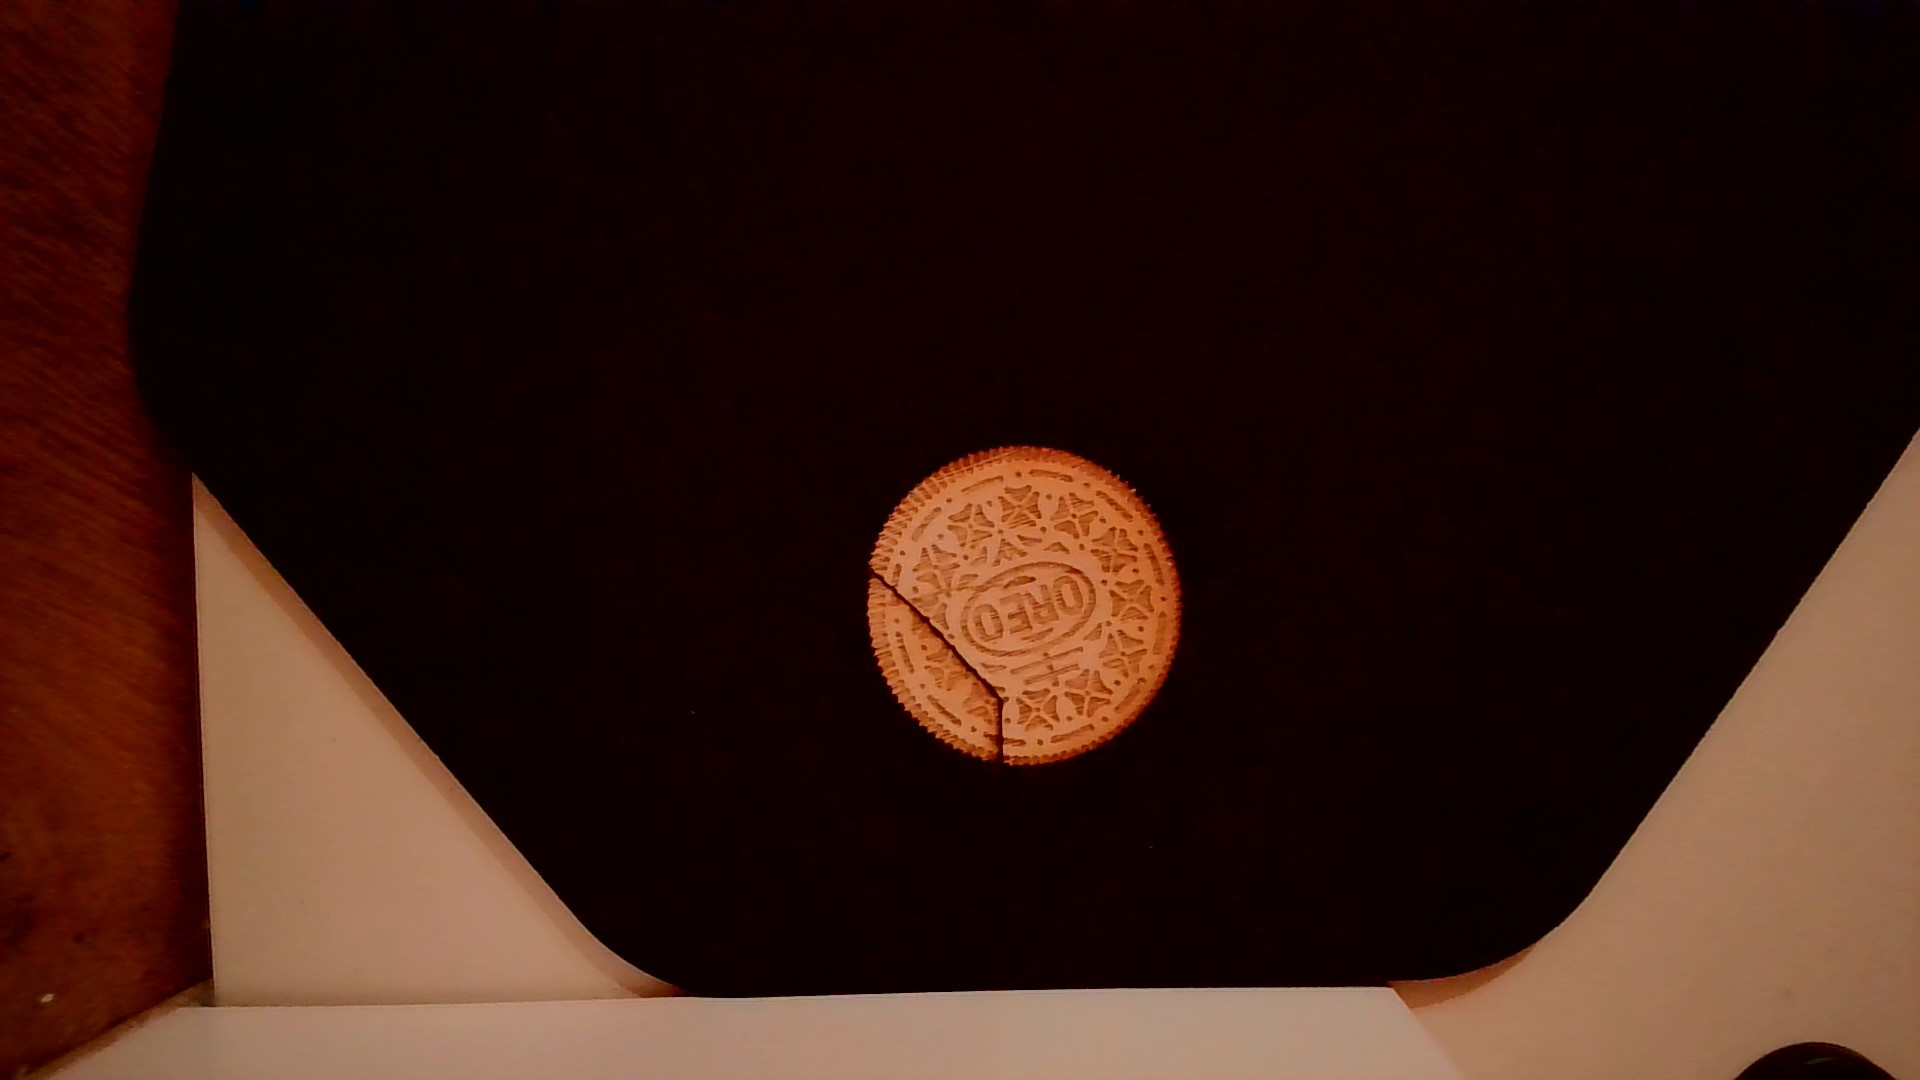Fissure: (868, 556, 1015, 765)
Oréo: (860, 436, 1189, 771)
